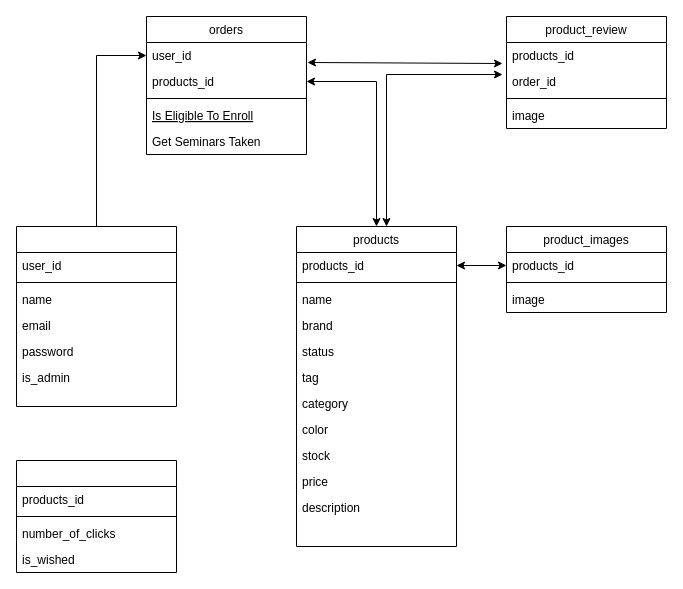
Image size: 683x589. Some labels were removed from this diagram. Each missing label, with the box of its shape:
product_activity: (16, 460, 176, 572)
users: (16, 226, 176, 406)
